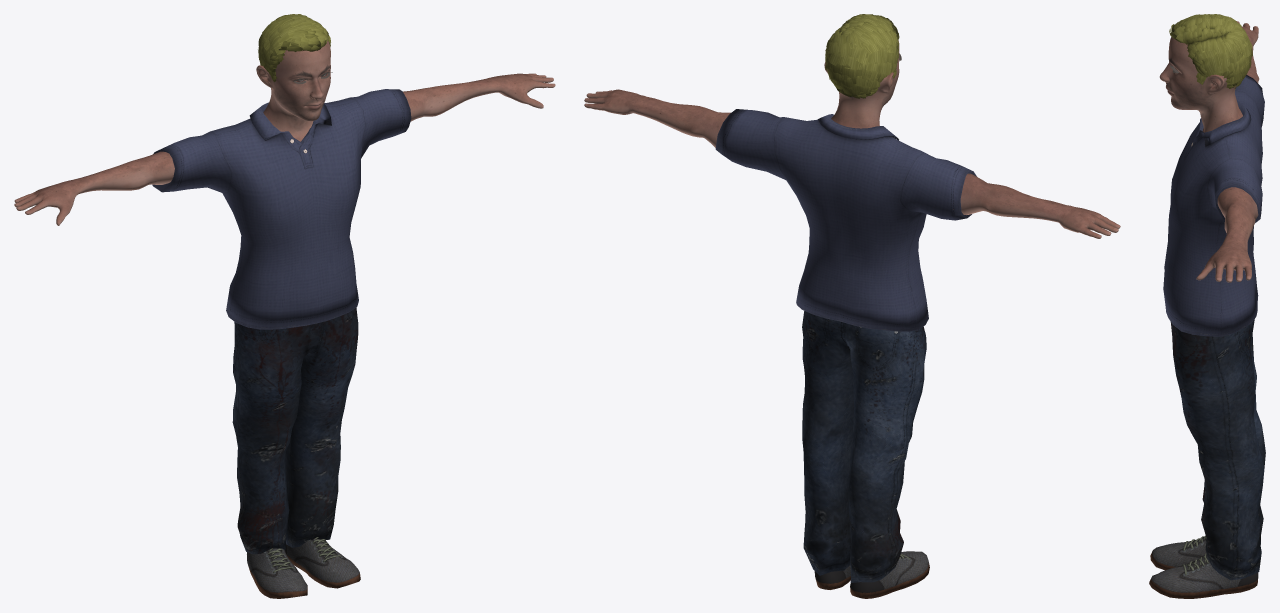
Rendered from Boy A.obj.
3 views of the same model, side by side, from view 1: azimuth 30°, elevation 25°; view 2: azimuth 150°, elevation 25°; view 3: azimuth 270°, elevation 25° (orthographic).
Visible parts, largest first — view 1: Tops, Bottoms, Body, Shoes, Hair; view 2: Tops, Bottoms, Body, Hair, Shoes; view 3: Bottoms, Tops, Body, Hair, Shoes.
Part boxes in pixels (bbox=[...]): Tops: bbox=[152, 89, 411, 329]; Bottoms: bbox=[232, 307, 358, 554]; Body: bbox=[14, 41, 555, 225]; Shoes: bbox=[247, 537, 360, 598]; Hair: bbox=[258, 14, 330, 82]; Tops: bbox=[715, 109, 976, 331]; Bottoms: bbox=[802, 311, 926, 582]; Body: bbox=[584, 40, 1120, 238]; Hair: bbox=[825, 14, 899, 98]; Shoes: bbox=[814, 551, 929, 598]; Bottoms: bbox=[1170, 319, 1265, 580]; Tops: bbox=[1163, 75, 1264, 336]; Body: bbox=[1159, 21, 1259, 282]; Hair: bbox=[1169, 14, 1252, 88]; Shoes: bbox=[1149, 535, 1258, 598].
Bounding box in the file's own units: 160 × 159 × 30.1.
Materials: 5 (5 with a texture image).
